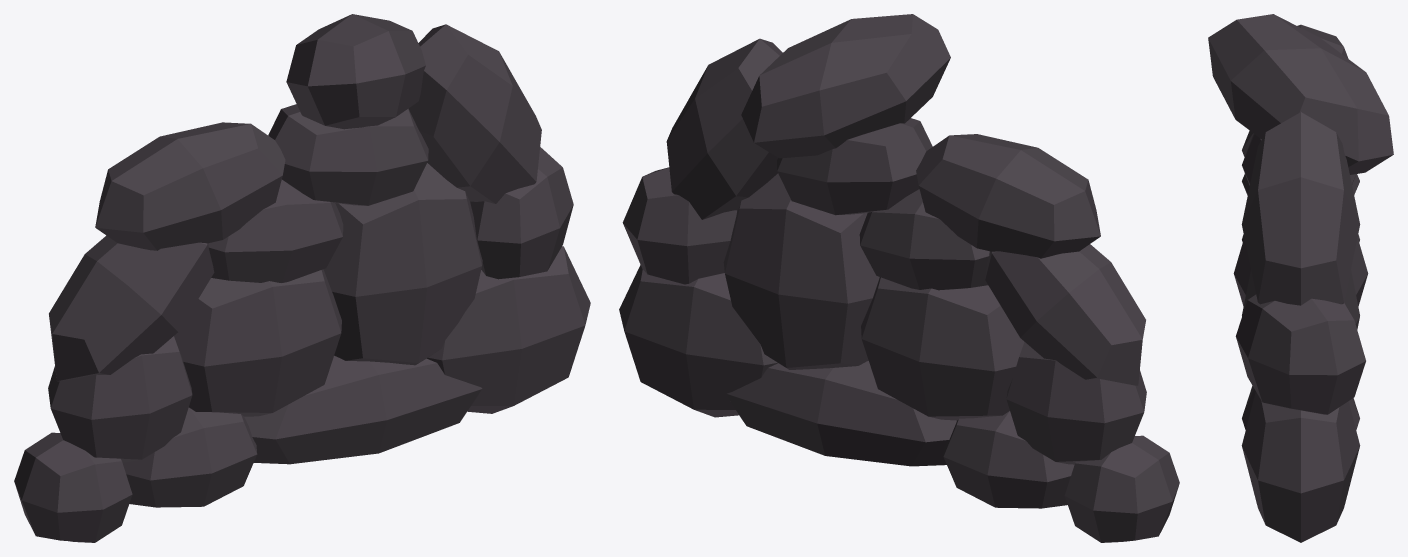
Rendered from Wall1.fbx.
3 views of the same model, side by side, from view 1: azimuth 30°, elevation 25°; view 2: azimuth 150°, elevation 25°; view 3: azimuth 270°, elevation 25° (orthographic). The views are drawn at different scales.
Parts seen in each view (by area): view 1: Cube.033; view 2: Cube.033; view 3: Cube.033.
Part boxes in pixels (box(x1,y1,x2,y2)): Cube.033: box(14, 14, 590, 542); Cube.033: box(619, 14, 1179, 542); Cube.033: box(1208, 14, 1393, 542).
Size of the model in its own units: 6.99 by 5.38 by 1.99.
